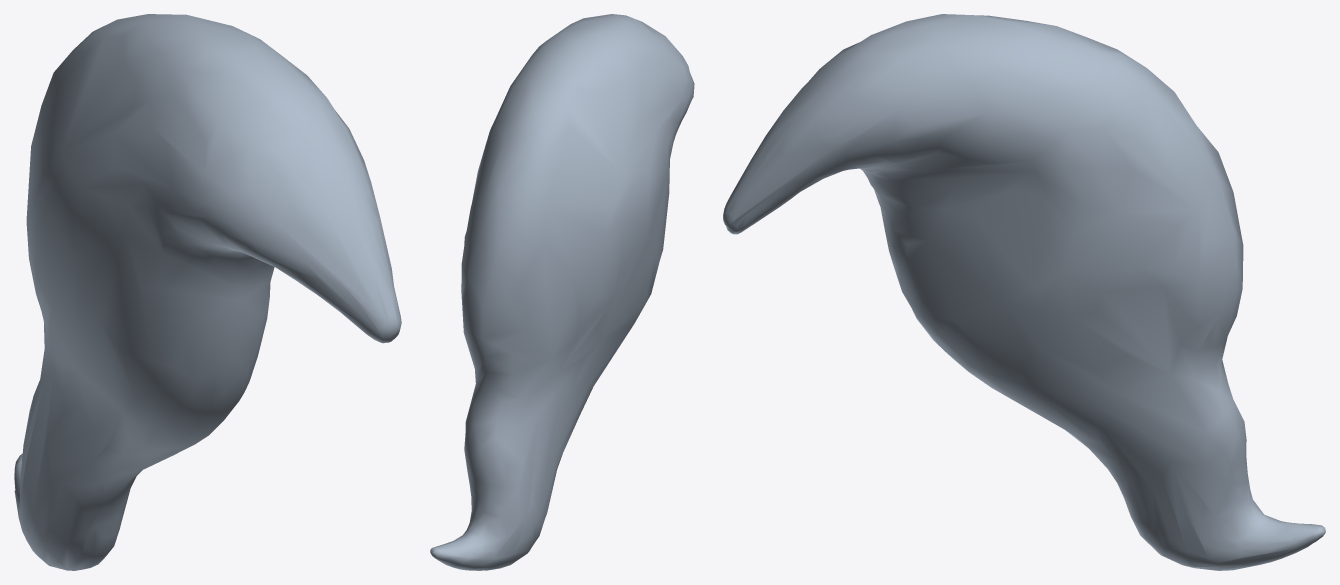
Rendered from Tail_06.fbx.
3 views of the same model, side by side, from view 1: azimuth 30°, elevation 25°; view 2: azimuth 150°, elevation 25°; view 3: azimuth 270°, elevation 25° (orthographic). The views are drawn at different scales.
Parts seen in each view (by area): view 1: Tail_06; view 2: Tail_06; view 3: Tail_06.
Boxes of the visible parts, box(x1,y1,x2,y2) form: Tail_06: box(14, 14, 401, 570); Tail_06: box(430, 14, 694, 570); Tail_06: box(723, 14, 1325, 570).
Bounding box in the file's own units: 0.6132 × 1.87 × 1.85.
